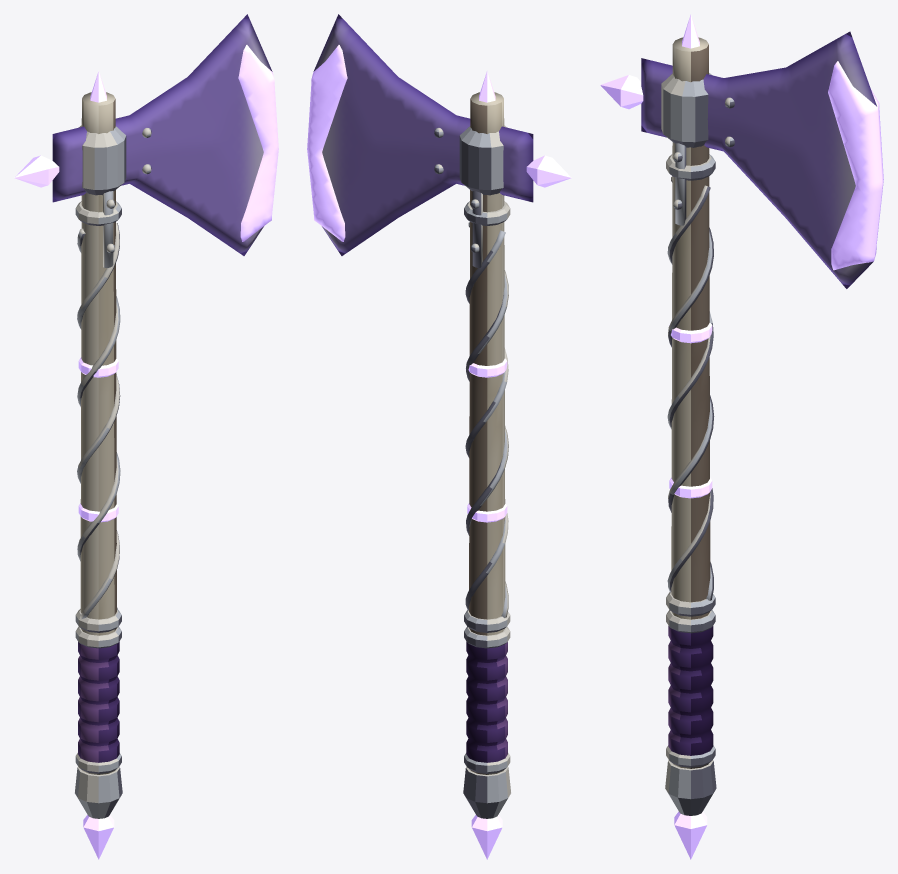
The model's file is tl_axe_crystal.glb.
3 views of the same model, side by side, from view 1: azimuth 30°, elevation 25°; view 2: azimuth 150°, elevation 25°; view 3: azimuth 330°, elevation 25° (orthographic). The views are drawn at different scales.
Visible parts, largest first — view 1: Weapon; view 2: Weapon; view 3: Weapon.
Part boxes in pixels (x1,y1,x2,y2): Weapon: (14,14,278,859); Weapon: (307,14,571,859); Weapon: (600,14,883,859).
Bounding box in the file's own units: 0.342 × 1 × 0.0635.
